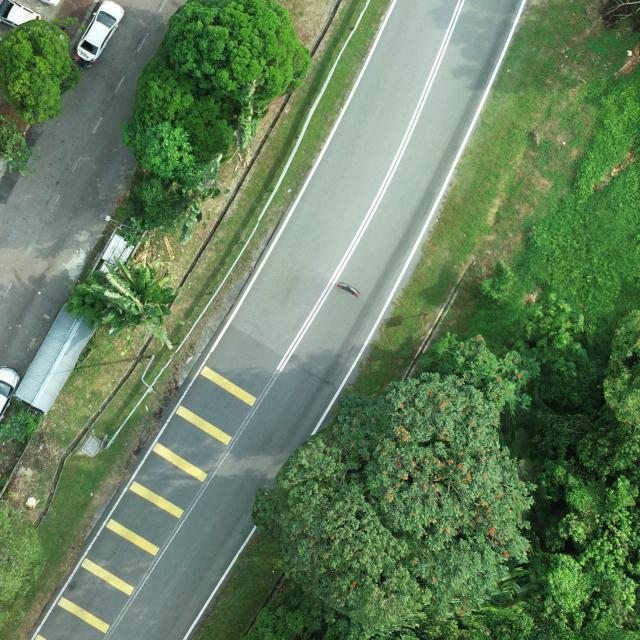banana_tree2: (66, 253, 186, 349)
tree: (253, 370, 541, 638), (162, 0, 314, 108), (130, 53, 245, 168), (0, 17, 82, 127), (136, 120, 207, 182), (0, 115, 33, 176)
